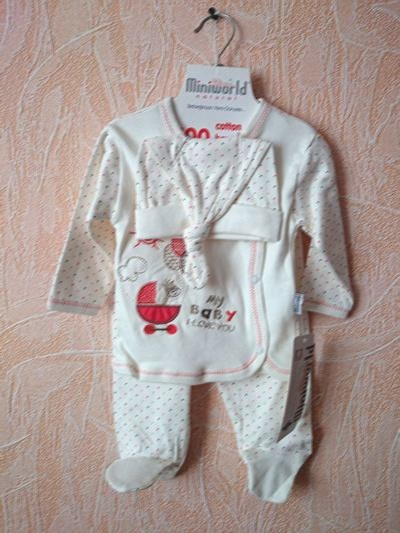Body: (41, 48, 357, 510)
